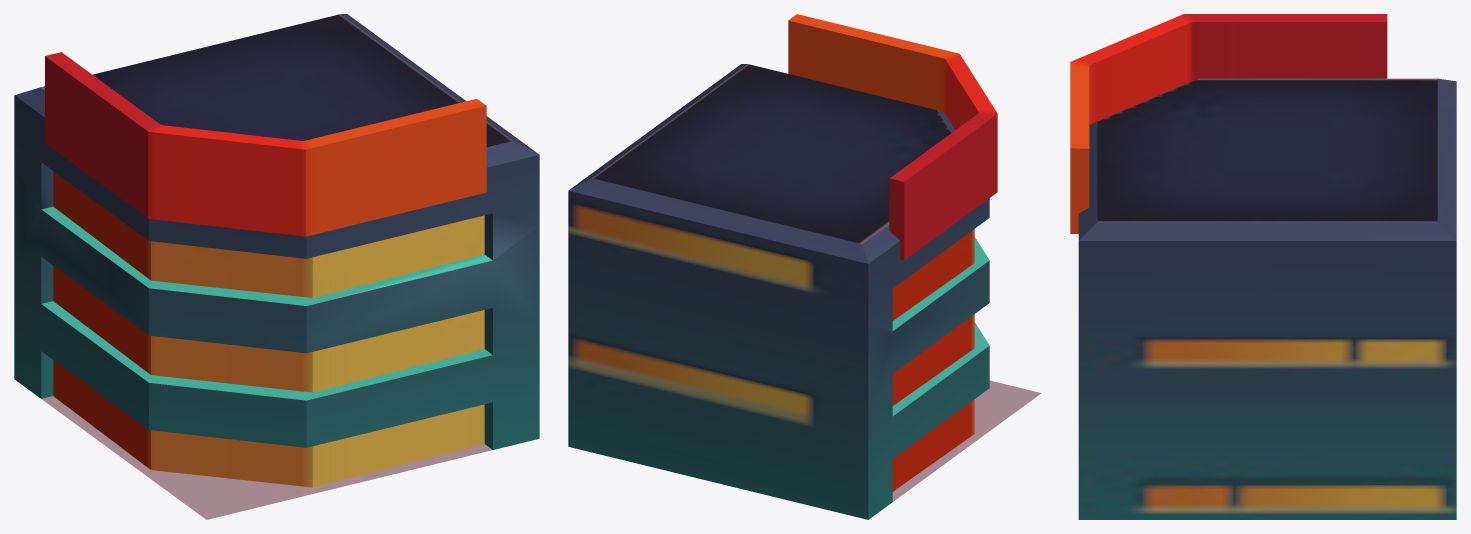
Rendered from build02.FBX.
The picture shows the model from 3 angles, left to right: view 1: azimuth 30°, elevation 25°; view 2: azimuth 150°, elevation 25°; view 3: azimuth 270°, elevation 25°; orthographic projection. The views are drawn at different scales.
Parts seen in each view (by area): view 1: build02; view 2: build02; view 3: build02.
Part boxes in pixels (bbox=[...]): build02: bbox=[14, 14, 539, 519]; build02: bbox=[568, 14, 1041, 519]; build02: bbox=[1070, 14, 1456, 519].
Bounding box in the file's own units: 1.01 × 1.02 × 1.
Materials: 1 (1 with a texture image).
